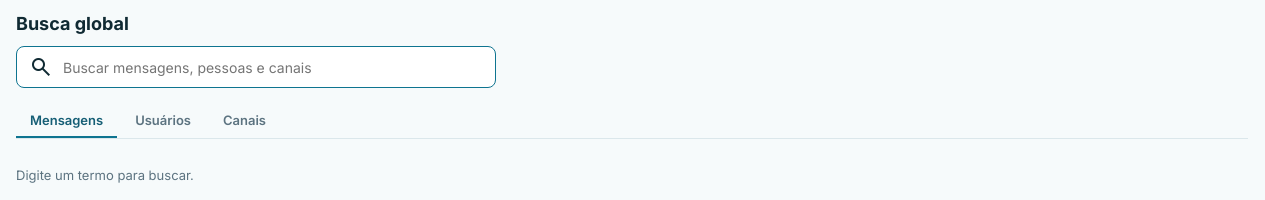
Test: GlobalSearchPage › renders an empty state distinct from an error
This screenshot has width=1265, height=200.
In the search field labelled "Buscar mensagens, pessoas e canais": (272, 67) 61,58 -> 483,76, type "zzz"
Wait 300 ms
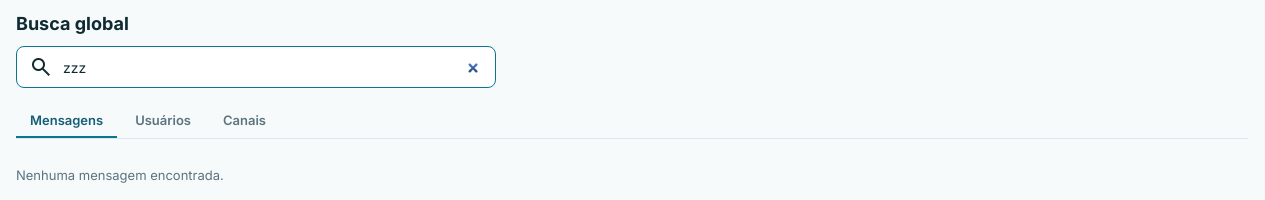
Click the tab "Canais": click(244, 121) 209,104 -> 280,138
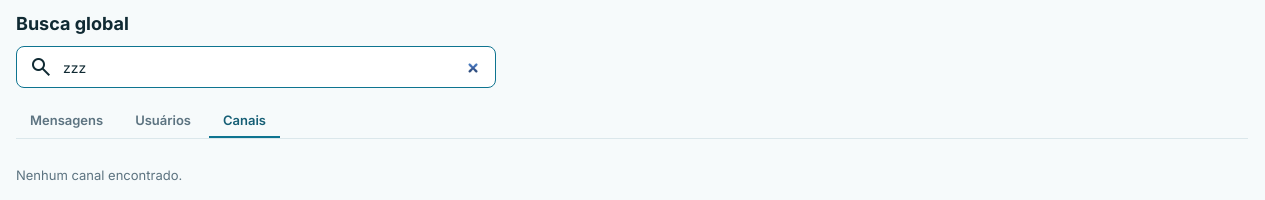
Check: the text with test id "global-search-empty" reads "Nenhum canal encontrado.", box 16,167 -> 182,183
